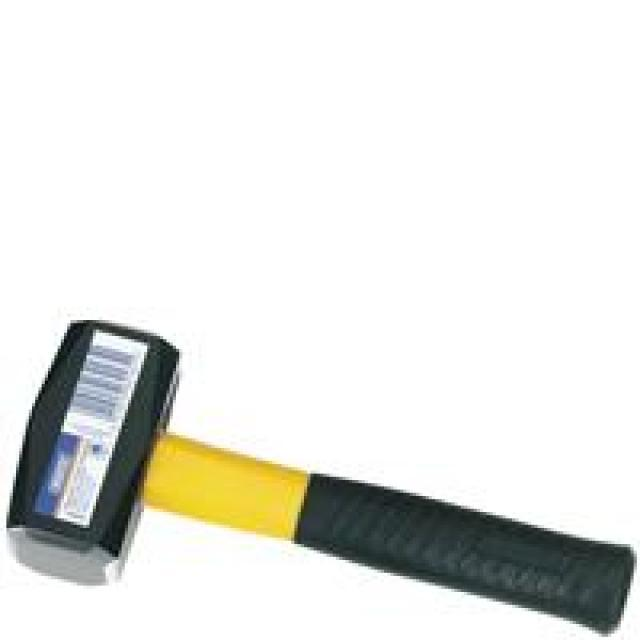hammer: (0, 307, 637, 640)
